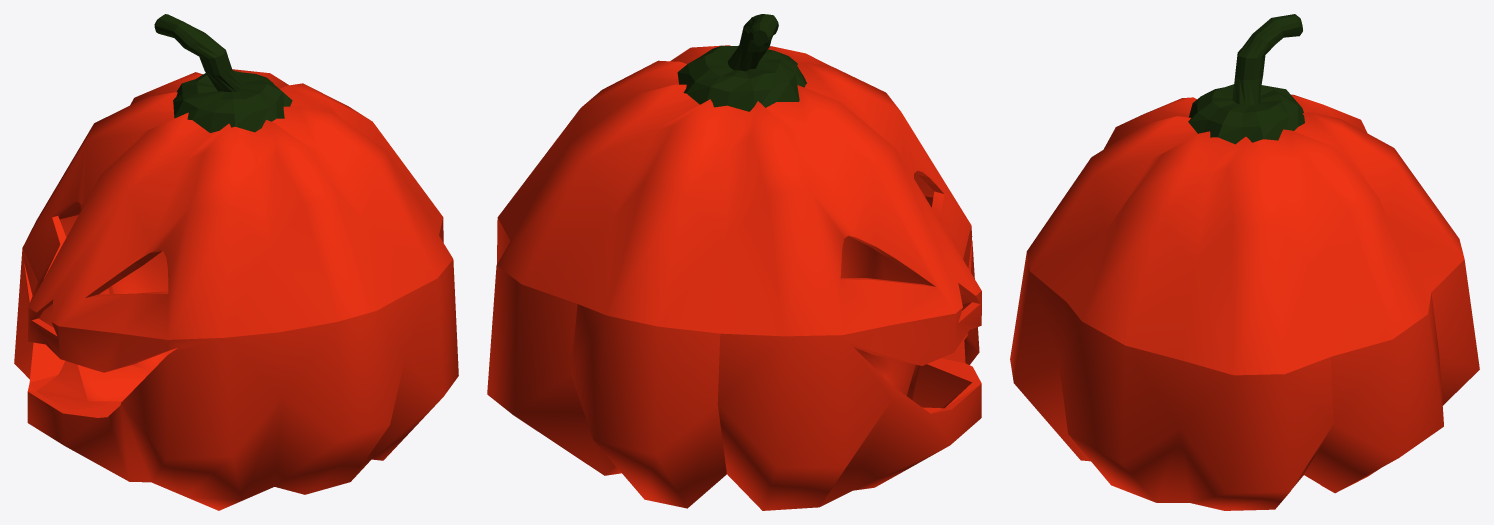
File: JackOLantern01.fbx
The picture shows the model from 3 angles, left to right: view 1: azimuth 30°, elevation 25°; view 2: azimuth 150°, elevation 25°; view 3: azimuth 270°, elevation 25°; orthographic projection. The views are drawn at different scales.
Visible parts, largest first — view 1: PumpkinLamp01; view 2: PumpkinLamp01; view 3: PumpkinLamp01.
Part boxes in pixels (bbox=[...]): PumpkinLamp01: bbox=[14, 14, 458, 510]; PumpkinLamp01: bbox=[487, 14, 981, 510]; PumpkinLamp01: bbox=[1010, 14, 1479, 510].
Bounding box in the file's own units: 36.22 × 37.13 × 36.54.
